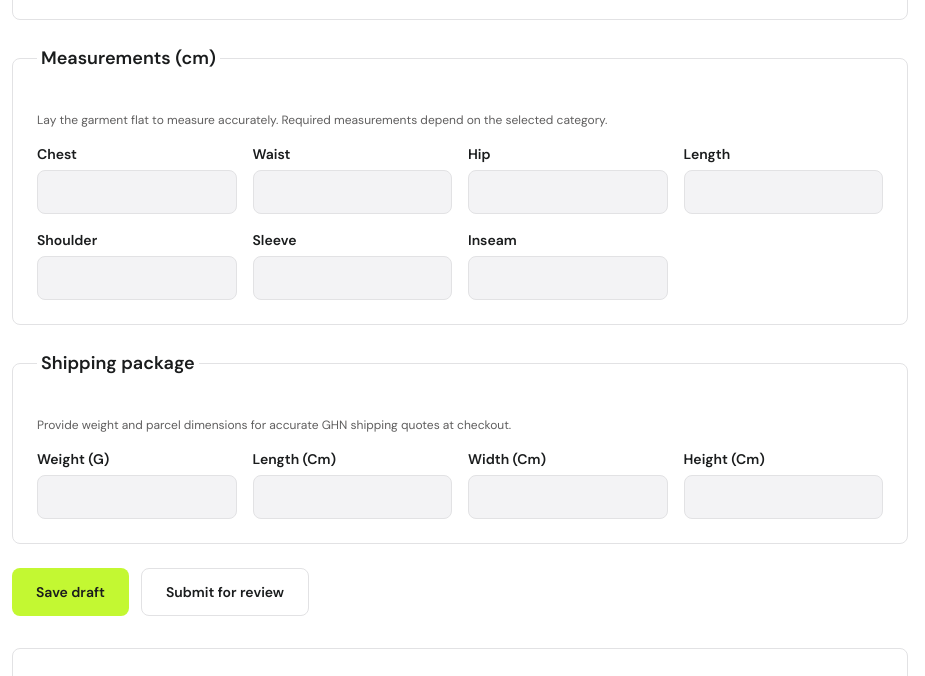
Test: seller listing editor › shows API errors instead of reporting a successful save
(page scrolled)
Click the button "Save draft" at (70, 592), box x1=12 y1=568 x2=129 y2=616
(page scrolled)
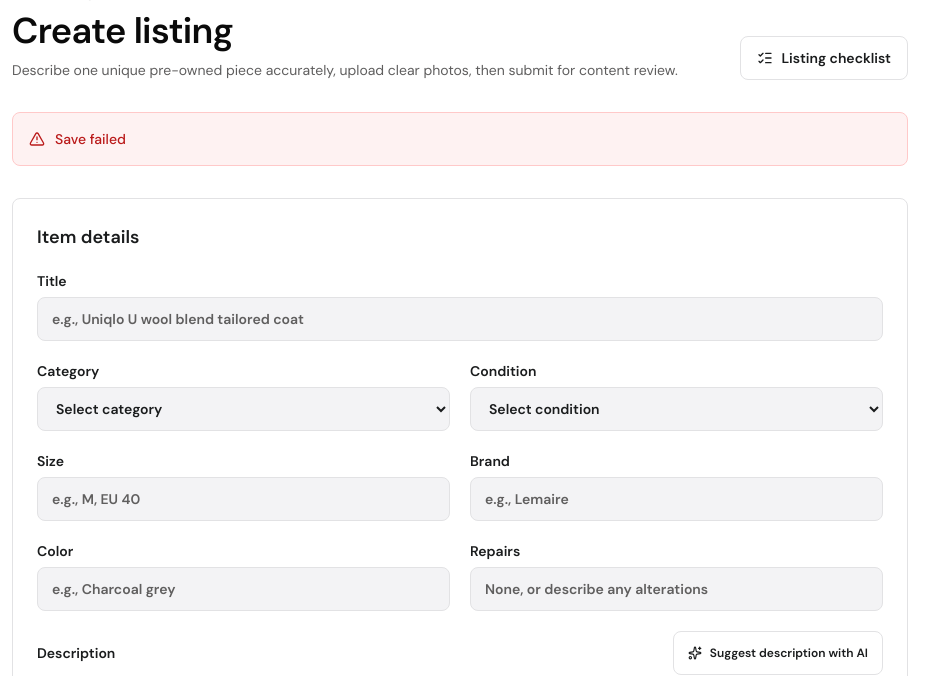
Result: the message reads "Save failed" at x1=55 y1=130 x2=126 y2=148
